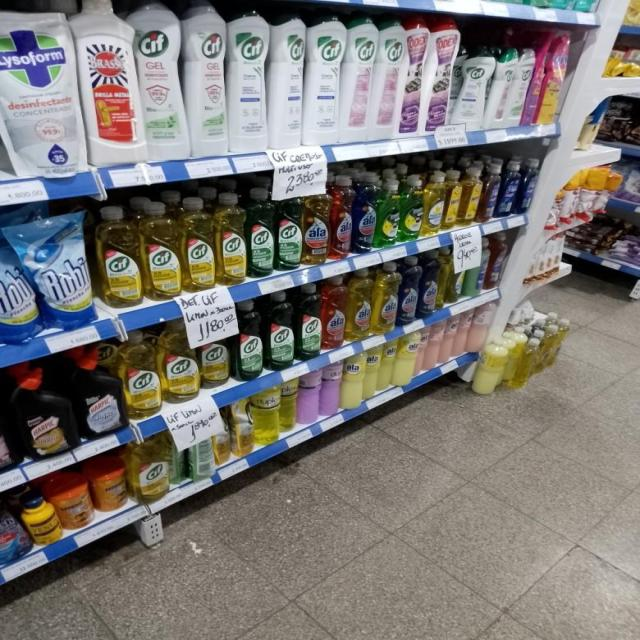ala_conc_amarillo: (303, 184, 330, 265), (347, 268, 372, 341), (373, 262, 397, 333)
ala_conc_azul: (354, 174, 376, 254), (419, 253, 439, 319), (399, 256, 418, 325)
ala_conc_rojo: (330, 175, 352, 260), (322, 276, 346, 350)
ala_crem_amarillo: (342, 353, 364, 409), (365, 347, 380, 398)
cif_conc_bot_amarilla: (97, 205, 141, 308), (144, 200, 180, 300), (123, 332, 160, 418), (182, 196, 214, 293), (162, 321, 199, 404), (216, 190, 246, 286), (130, 436, 169, 504), (201, 325, 230, 388)
cif_conc_botella_verde: (233, 298, 263, 381), (248, 187, 274, 278), (265, 291, 294, 370), (276, 189, 302, 271), (295, 282, 321, 360)
magistral_con_amarillo: (424, 172, 445, 236)
